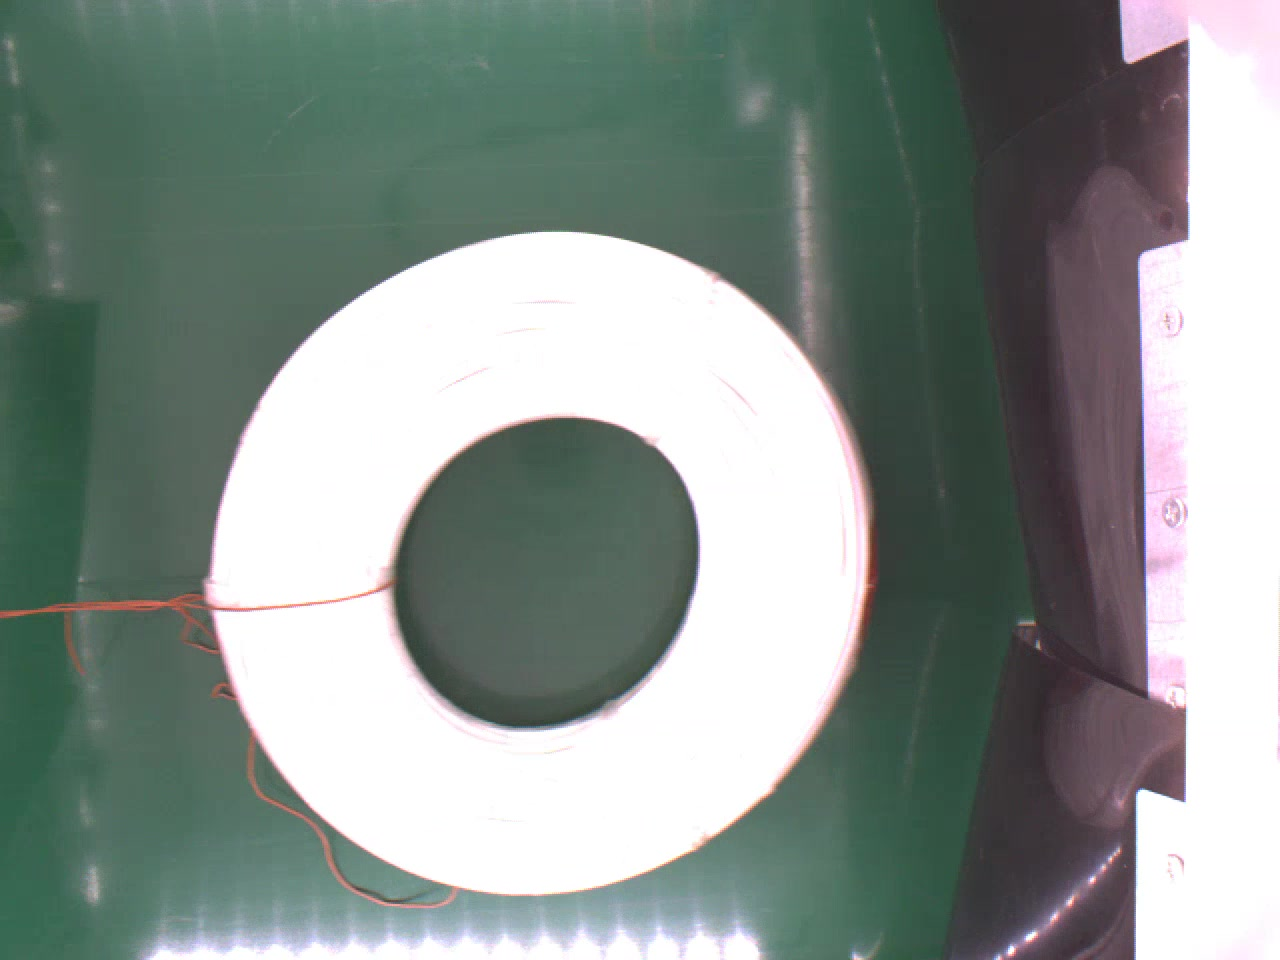white: (200, 224, 869, 895)
